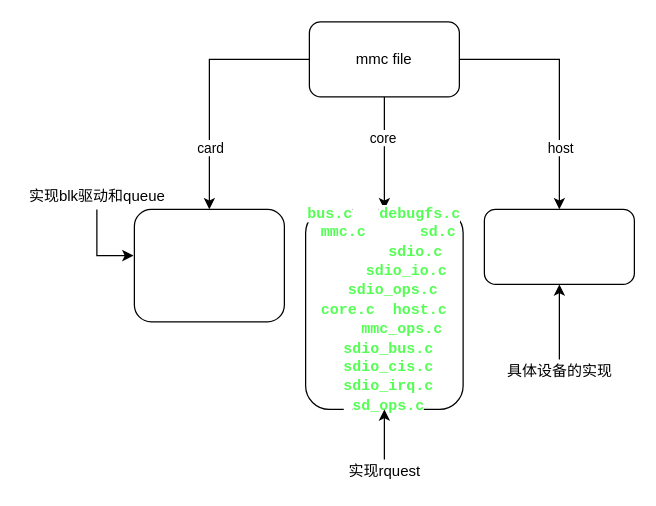
This 656x506 diagram has some shape labels left out. The shapes that lost their labels are listed below. From the top down, each one's box as (x1, y1, x2, y2) in pixels, then its label:
(133, 208, 284, 322): block.c mmc_test.c queue.c sdio_uart.c
(483, 208, 634, 284): HOST.c
